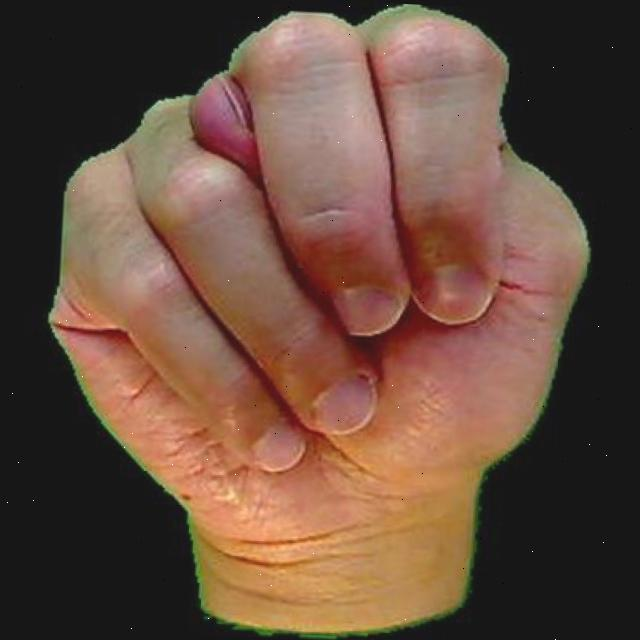n: (6, 0, 604, 640)
